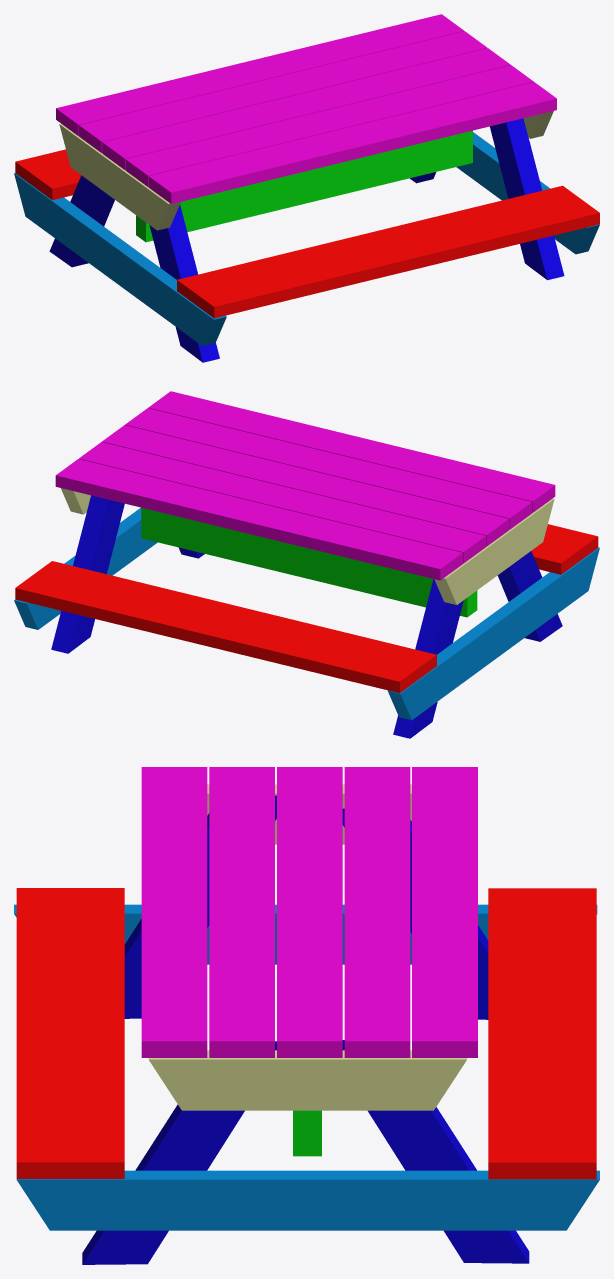
The model's file is GAA420_Picnic_Table_Offical.fbx.
3 views of the same model, one above another, from view 1: azimuth 30°, elevation 25°; view 2: azimuth 150°, elevation 25°; view 3: azimuth 270°, elevation 25° (orthographic). The views are drawn at different scales.
Parts seen in each view (by area): view 1: Seat001, Seat003, Box006, Seat006, Seat004, Seat005, Seat007, Box003, Box007, Box010, Box004, Box008 (+3 smaller); view 2: Seat002, Seat007, Box006, Seat003, Seat004, Seat005, Seat006, Box003, Box007, Box009, Box005, Box008 (+3 smaller); view 3: Box008, Seat002, Seat001, Seat003, Seat006, Seat004, Seat005, Seat007, Box011, Box010, Box009, Box004 (+3 smaller).
Boxes of the visible parts, box(x1,y1,x2,y2) form: Seat001: box(177, 185, 599, 318); Seat003: box(148, 82, 556, 203); Box006: box(136, 130, 472, 242); Seat006: box(79, 31, 487, 152); Seat004: box(125, 65, 533, 186); Seat005: box(102, 48, 510, 169); Seat007: box(56, 14, 463, 135); Box003: box(14, 173, 226, 346); Box007: box(59, 123, 180, 230); Box010: box(489, 118, 564, 280); Box004: box(149, 205, 219, 362); Box008: box(456, 132, 599, 254); Seat002: box(15, 561, 436, 693); Seat007: box(55, 459, 462, 580); Box006: box(141, 507, 477, 617); Seat003: box(148, 391, 555, 512); Seat004: box(125, 408, 532, 529); Seat005: box(102, 425, 509, 546); Seat006: box(79, 442, 485, 563); Box003: box(388, 547, 599, 720); Box007: box(434, 498, 554, 604); Box009: box(51, 495, 124, 653); Box005: box(393, 579, 463, 738); Box008: box(14, 508, 157, 629); Box008: box(16, 1170, 599, 1230); Seat002: box(488, 888, 596, 1179); Seat001: box(16, 888, 124, 1178); Seat003: box(141, 767, 207, 1057); Seat006: box(344, 767, 410, 1057); Seat004: box(209, 767, 274, 1057); Seat005: box(277, 767, 342, 1057); Seat007: box(412, 767, 477, 1057); Box011: box(148, 1050, 467, 1110); Box010: box(82, 1041, 276, 1264); Box009: box(342, 1040, 529, 1263); Box004: box(124, 795, 276, 1018).
Bounding box in the file's own units: 2.41 × 0.9486 × 2.17.
